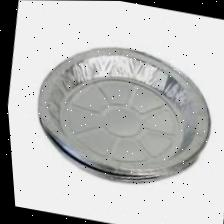metal: (9, 20, 224, 207)
